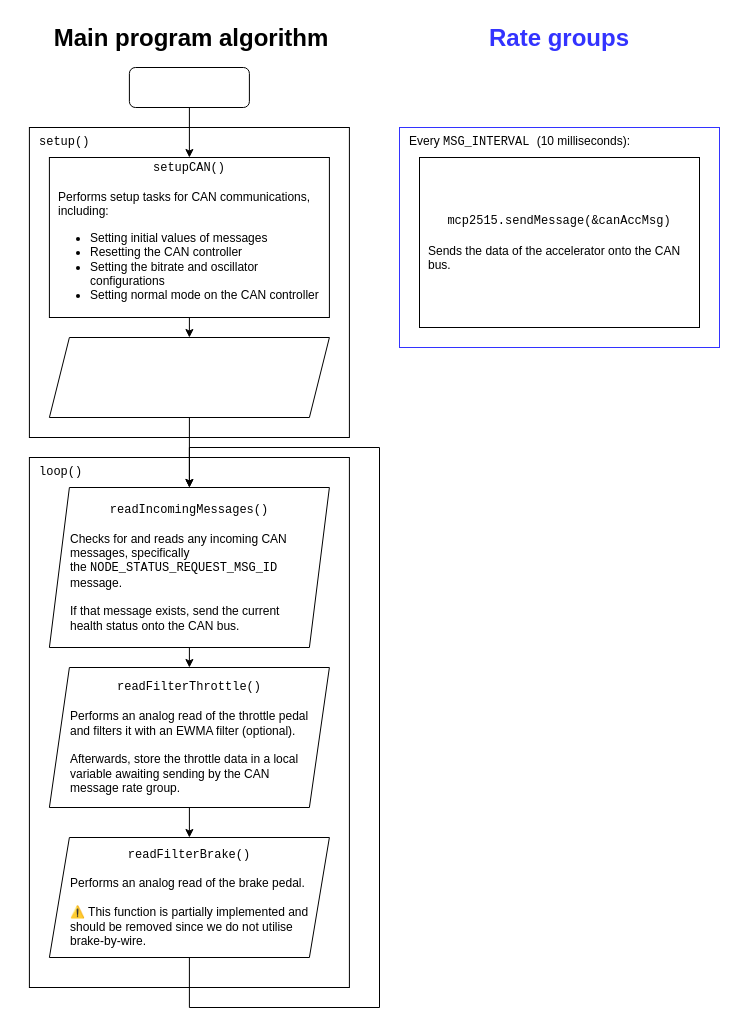
This 752x1033 diagram has some shape labels left out. Here are the shapes that lost their labels. From the top down, the centre of each, then its label:
(x=188, y=87): Start/Reset
(x=188, y=377): sendStatus(1) Sends a "good" health status through the CAN interface
